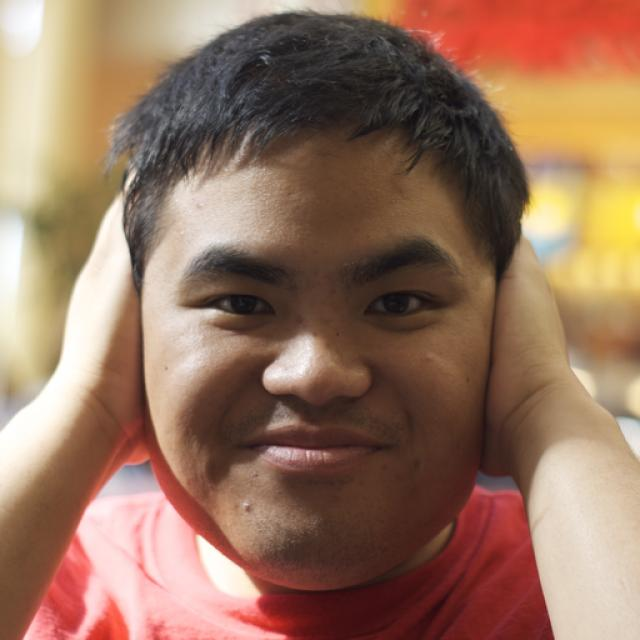Acne: (234, 492, 256, 523), (420, 348, 436, 368)
